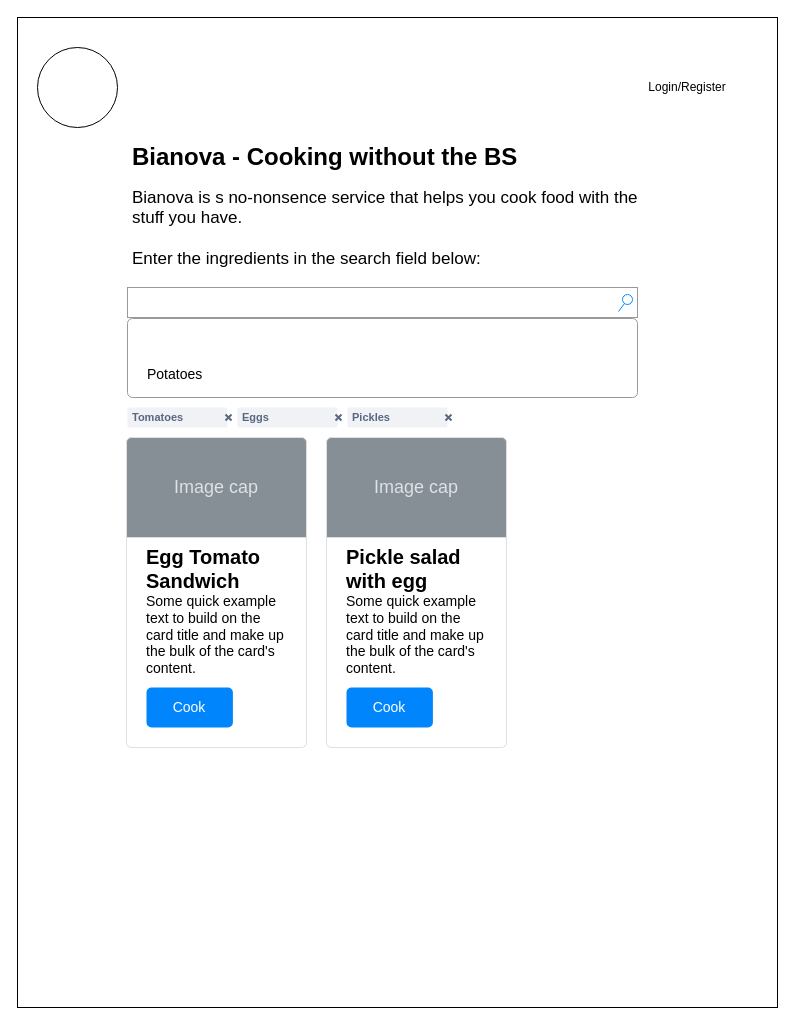
Image size: 795x1025. Some labels were removed from this diagram. Each missing label, with the centre of its shape:
"LOGO" goes at pixel 77 87.
"Pot" goes at pixel 382 302.
"Pot (weed)" goes at pixel 382 358.
